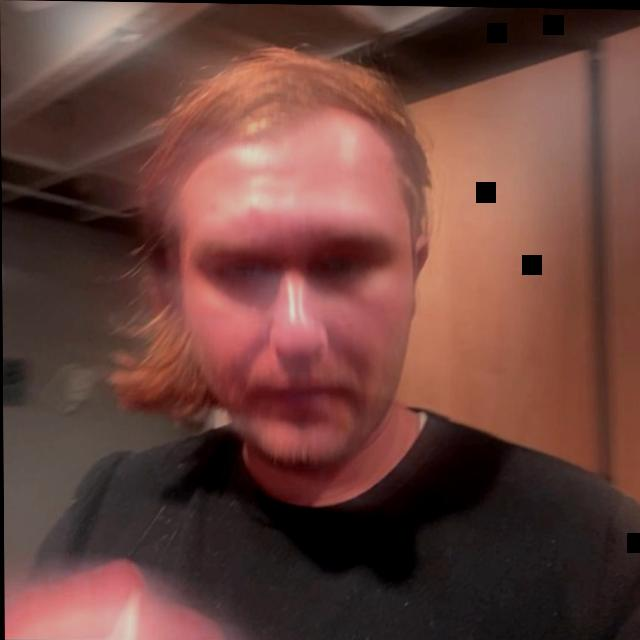NO-Mask: (137, 38, 448, 486)
